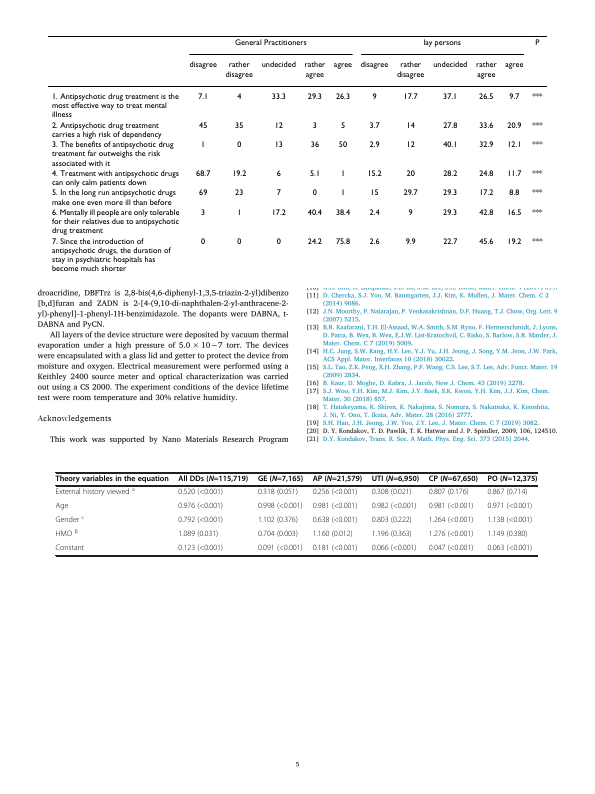borderless: (46, 34, 548, 282), (54, 471, 537, 555)
cell: (50, 237, 171, 274), (50, 208, 180, 236), (50, 92, 179, 120), (50, 140, 174, 169), (50, 188, 176, 208), (50, 169, 179, 188), (50, 121, 162, 140), (55, 475, 170, 484), (54, 486, 136, 498), (233, 38, 307, 48), (177, 475, 249, 484), (395, 61, 425, 80), (224, 61, 253, 80), (177, 488, 224, 498), (177, 502, 224, 512), (486, 502, 533, 512), (177, 516, 224, 526), (486, 516, 533, 526), (177, 544, 224, 554), (486, 544, 533, 554), (486, 475, 538, 484), (312, 488, 358, 498), (257, 502, 303, 512), (312, 502, 358, 512), (371, 502, 417, 512), (428, 502, 474, 512), (312, 516, 358, 526), (428, 516, 474, 526), (428, 530, 474, 540), (257, 544, 303, 554), (312, 544, 358, 554), (371, 544, 417, 554), (428, 544, 474, 554), (312, 475, 363, 484), (428, 475, 479, 484), (371, 475, 420, 484), (303, 61, 326, 80), (474, 61, 497, 80), (257, 475, 304, 484), (257, 488, 299, 498), (371, 488, 413, 498), (428, 488, 470, 498), (486, 488, 528, 498), (257, 516, 299, 526), (371, 516, 413, 526), (177, 530, 219, 540), (257, 530, 299, 540), (371, 530, 413, 540), (486, 530, 528, 540), (312, 530, 353, 540), (422, 38, 461, 48), (55, 514, 85, 526), (260, 61, 296, 70), (432, 61, 468, 70), (55, 544, 85, 554), (55, 528, 79, 540), (359, 61, 389, 70), (188, 61, 217, 70), (332, 61, 353, 70), (504, 61, 524, 70), (334, 208, 351, 218), (334, 237, 351, 247), (270, 92, 286, 102), (306, 92, 322, 102), (334, 92, 350, 102), (402, 92, 418, 102), (442, 92, 458, 102), (478, 92, 494, 102), (442, 121, 458, 131), (478, 121, 494, 131), (506, 121, 522, 131), (442, 140, 458, 150), (478, 140, 494, 150), (506, 140, 522, 150), (195, 169, 211, 179), (231, 169, 247, 179), (366, 169, 382, 179), (442, 169, 458, 179), (478, 169, 494, 179), (506, 169, 522, 179), (402, 188, 418, 198), (442, 188, 458, 198), (478, 188, 494, 198), (270, 208, 286, 218), (306, 208, 322, 218), (442, 208, 458, 218), (478, 208, 494, 218), (506, 208, 522, 218), (306, 237, 322, 247), (442, 237, 458, 247), (478, 237, 494, 247), (506, 237, 522, 247), (55, 502, 69, 512), (197, 92, 209, 102), (508, 92, 520, 102), (531, 92, 543, 102), (368, 121, 380, 131), (531, 121, 543, 131), (368, 140, 380, 150), (531, 140, 543, 150), (308, 169, 320, 179), (531, 169, 543, 179), (508, 188, 520, 198), (531, 188, 543, 198), (368, 208, 380, 218), (531, 208, 543, 218), (368, 237, 380, 247), (404, 237, 416, 247), (531, 237, 543, 247), (309, 140, 320, 150), (337, 140, 348, 150), (198, 121, 208, 131), (234, 121, 244, 131), (273, 121, 283, 131), (405, 121, 415, 131), (273, 140, 283, 150), (405, 140, 415, 150), (405, 169, 415, 179), (198, 188, 208, 198), (234, 188, 244, 198), (369, 188, 379, 198), (339, 121, 346, 131), (339, 169, 346, 179), (339, 188, 346, 198), (534, 38, 540, 48), (236, 92, 242, 102), (371, 92, 377, 102), (311, 121, 317, 131), (200, 140, 206, 150), (236, 140, 242, 150), (275, 169, 281, 179), (275, 188, 281, 198), (311, 188, 317, 198), (200, 208, 206, 218), (236, 208, 242, 218), (407, 208, 413, 218), (200, 237, 206, 247), (236, 237, 242, 247), (275, 237, 281, 247)
